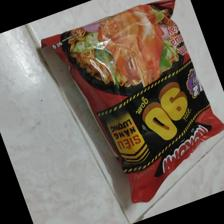Kokomi: (38, 1, 224, 206)
